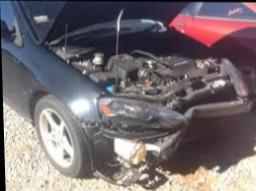Bonnet: (58, 28, 226, 100)
Bumper: (80, 56, 252, 184)
Light: (97, 94, 191, 140)
